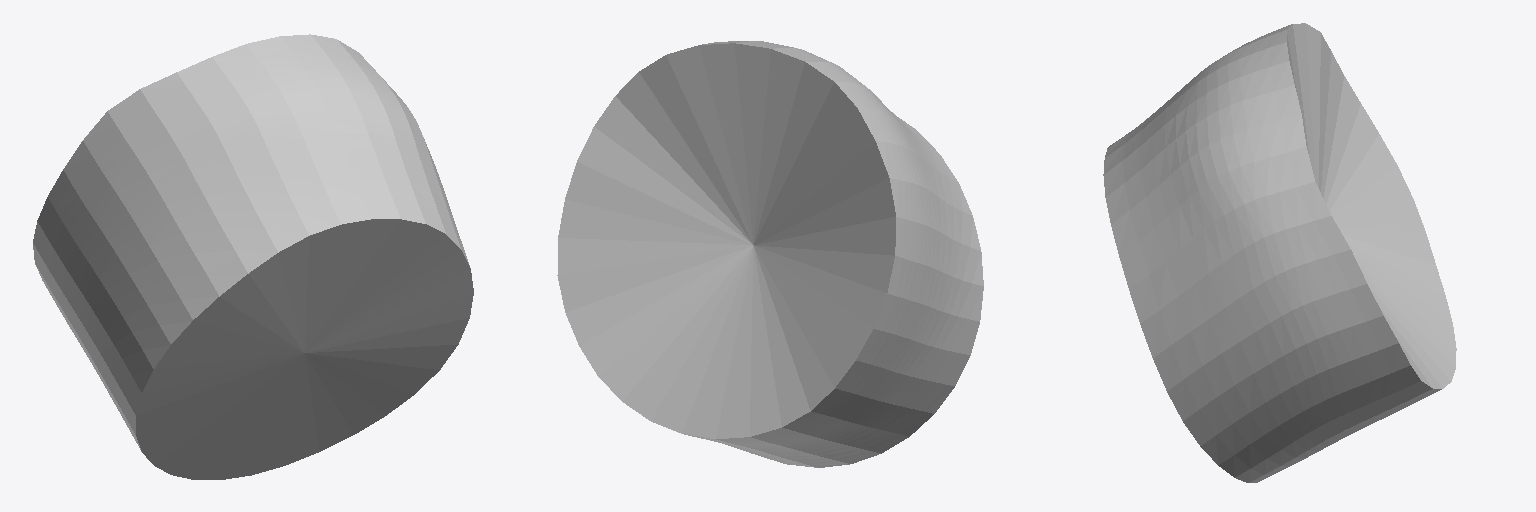
File: GoggleStrap.OBJ
3 views of the same model, side by side, from view 1: azimuth 30°, elevation 25°; view 2: azimuth 150°, elevation 25°; view 3: azimuth 270°, elevation 25° (orthographic).
Parts seen in each view (by area): view 1: Group18404; view 2: Group18404; view 3: Group18404.
Part boxes in pixels (x1,y1,x2,y2): Group18404: (33, 34, 473, 479); Group18404: (557, 41, 983, 467); Group18404: (1103, 23, 1456, 482).
Size of the model in its own units: 8.5 by 10.16 by 7.69.